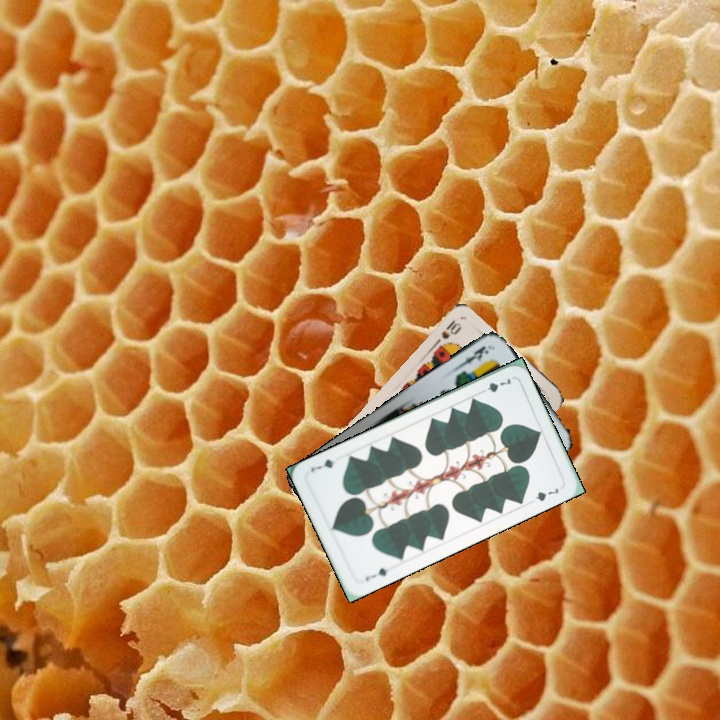EK: (455, 342, 492, 370)
G7: (475, 374, 513, 396), (361, 564, 390, 583)
S10: (430, 316, 464, 351)
